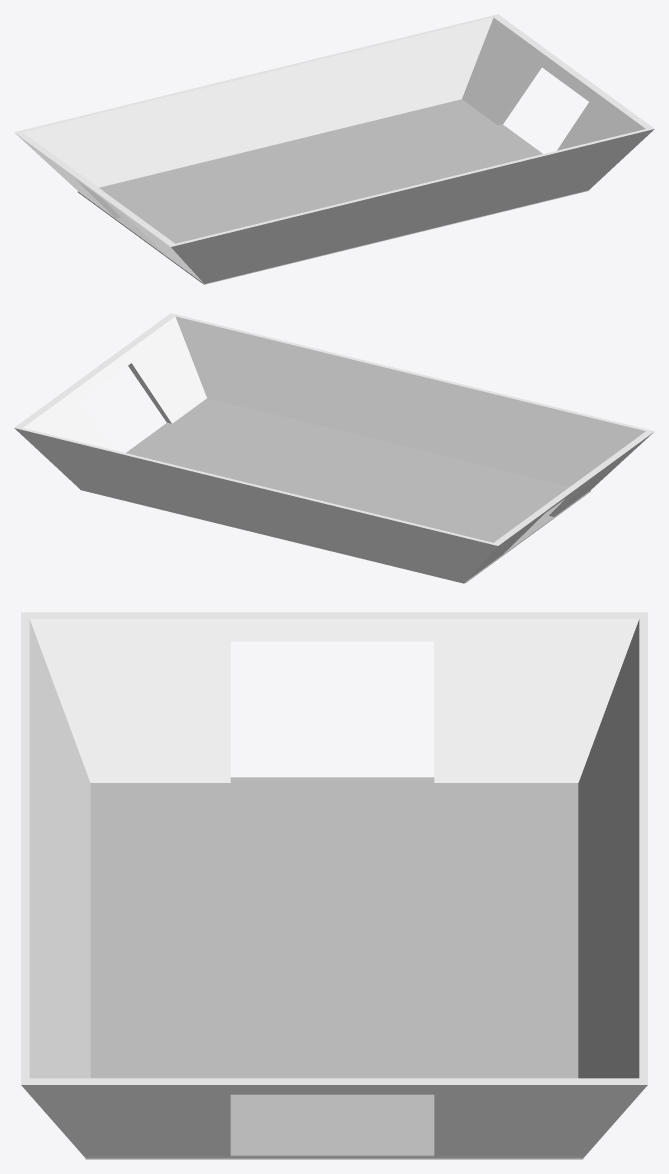
File: LeftRight.fbx
3 renders of one model, top to bottom at view 1: azimuth 30°, elevation 25°; view 2: azimuth 150°, elevation 25°; view 3: azimuth 270°, elevation 25°, orthographic. The views are drawn at different scales.
Parts seen in each view (by area): view 1: Room15, Piso1; view 2: Room15, Piso1; view 3: Piso1, Room15.
Boxes of the visible parts, x1,y1,x2,y2 form: Room15: (14, 14, 654, 284); Piso1: (77, 99, 542, 283); Room15: (14, 313, 654, 583); Piso1: (79, 398, 590, 582); Piso1: (85, 777, 584, 1157); Room15: (21, 612, 647, 1159).
Size of the model in its own units: 4100 by 500 by 2300.
